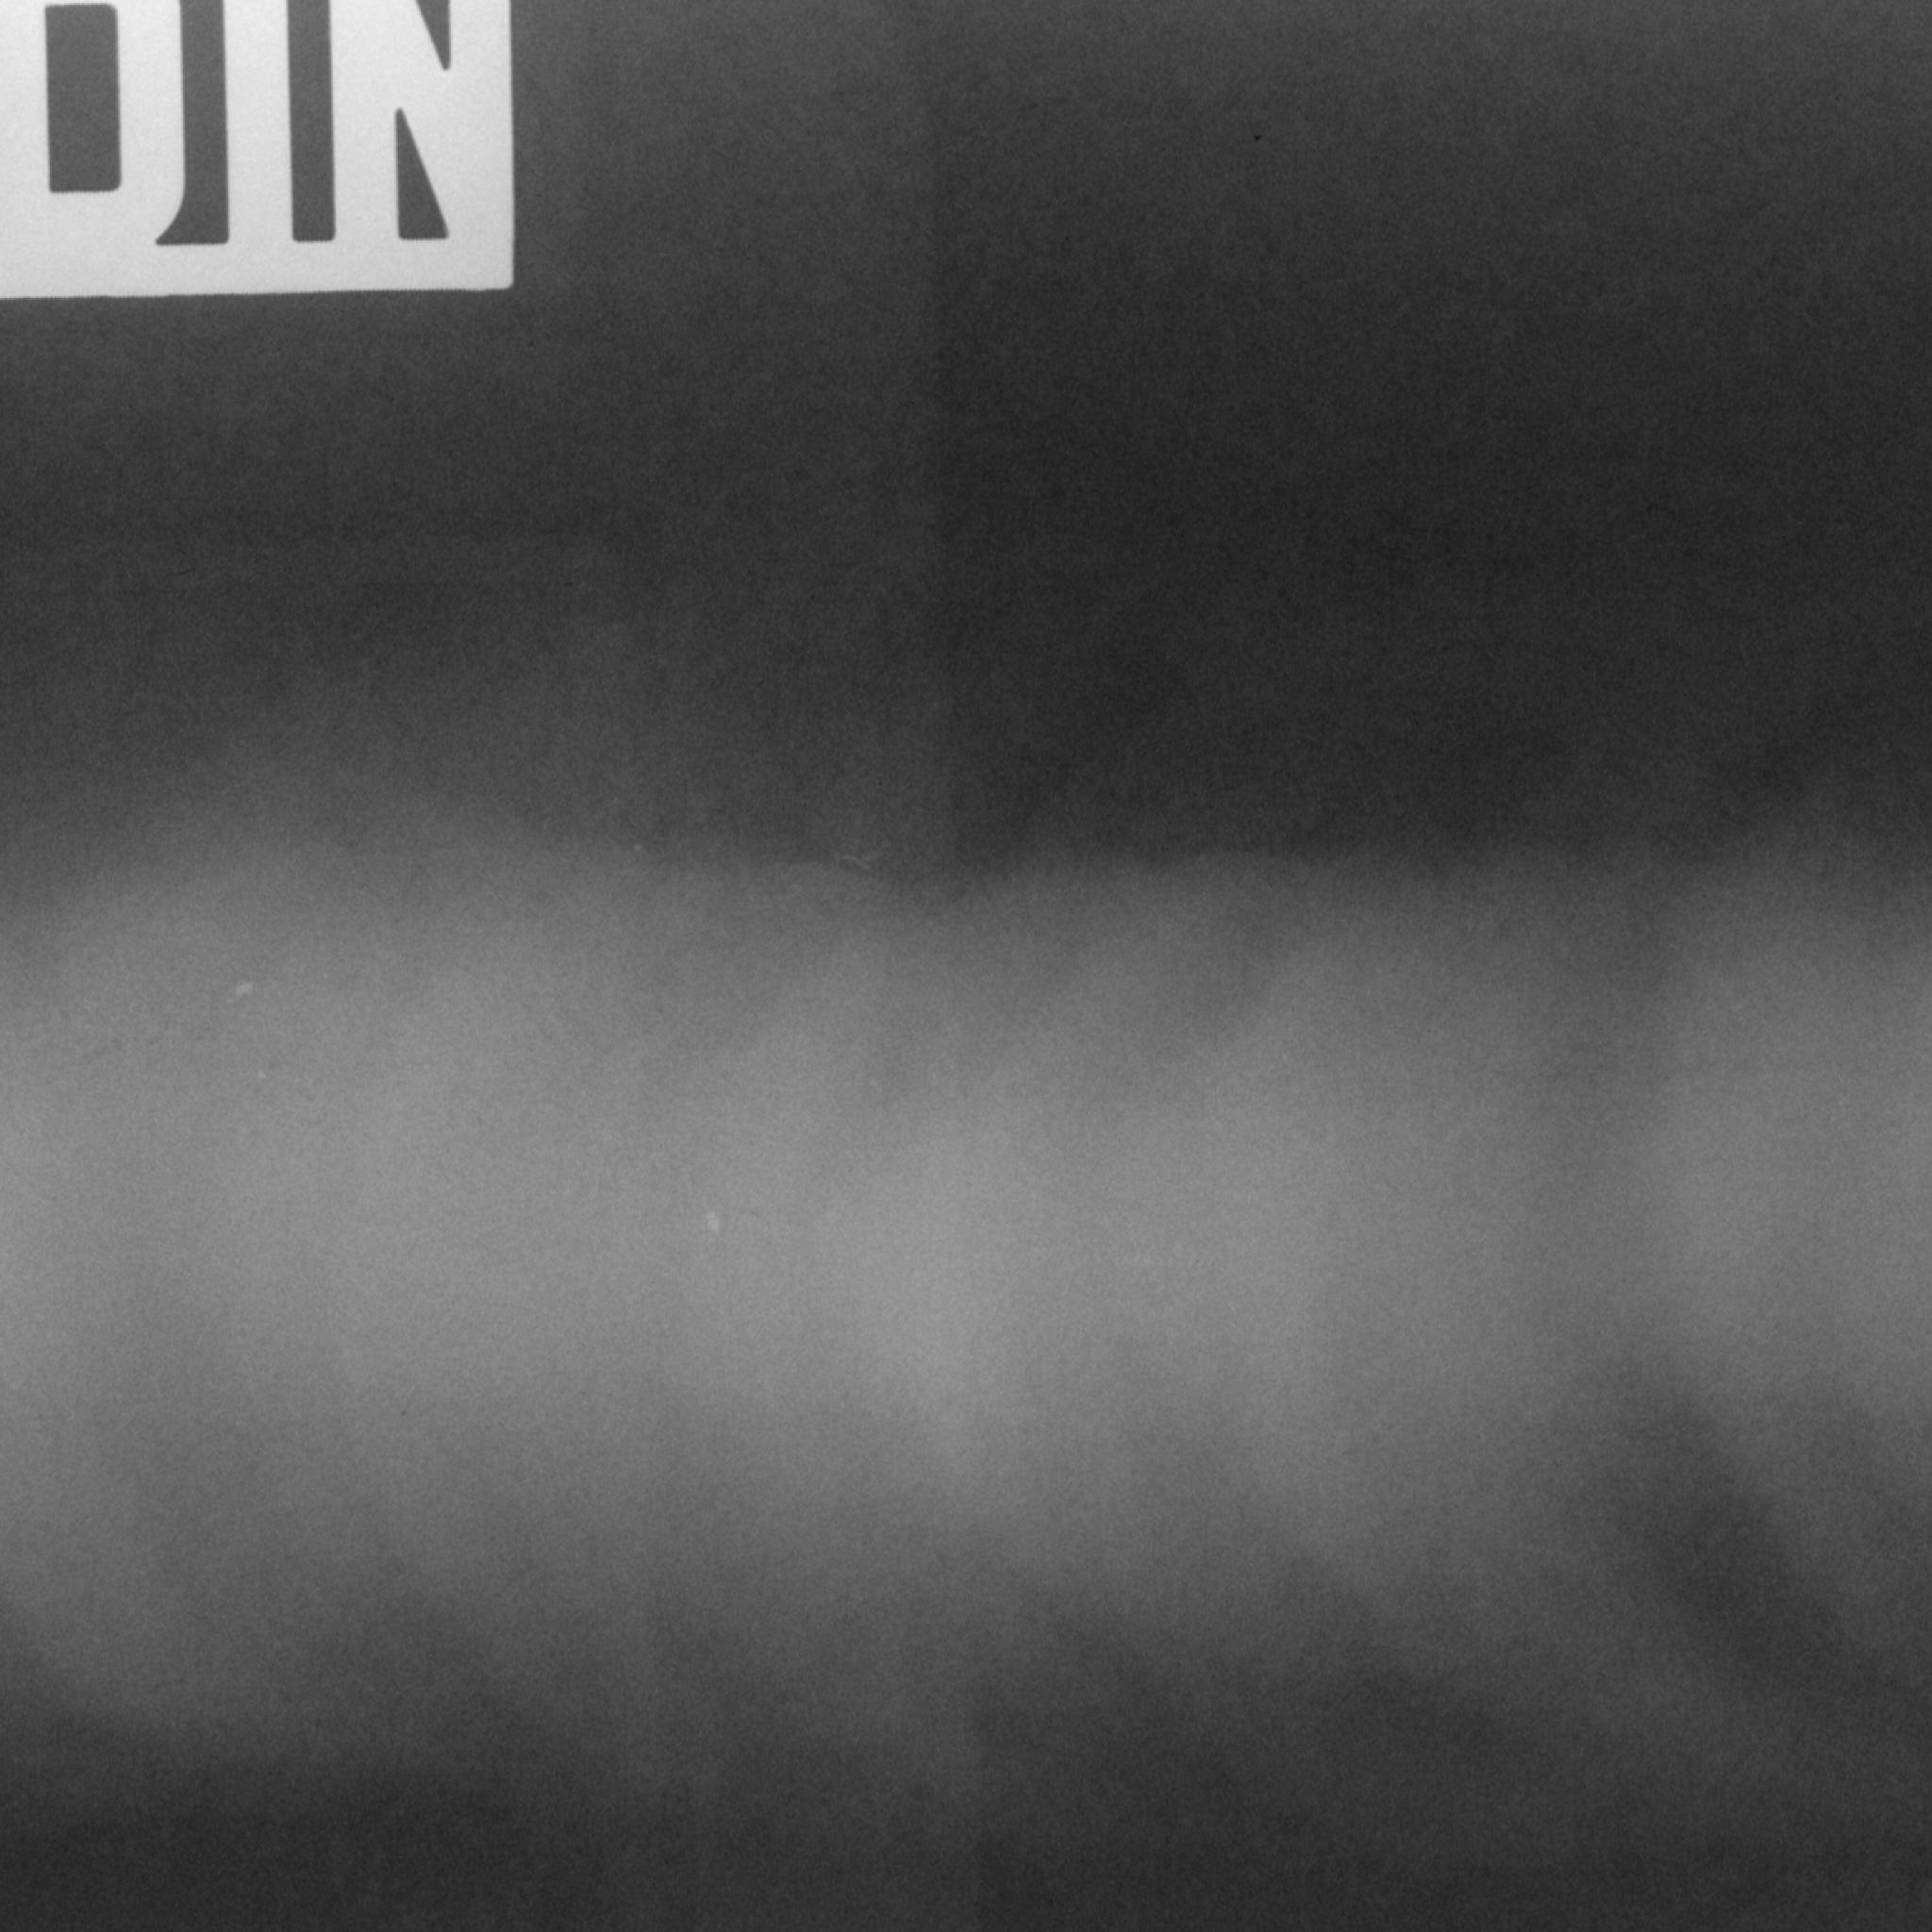Solda Ruim: (0, 610, 1932, 1932)
